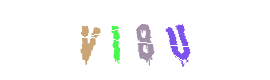8: (94, 0, 174, 80)
I: (77, 0, 157, 80)
U: (139, 0, 219, 80)
V: (76, 0, 156, 80)
